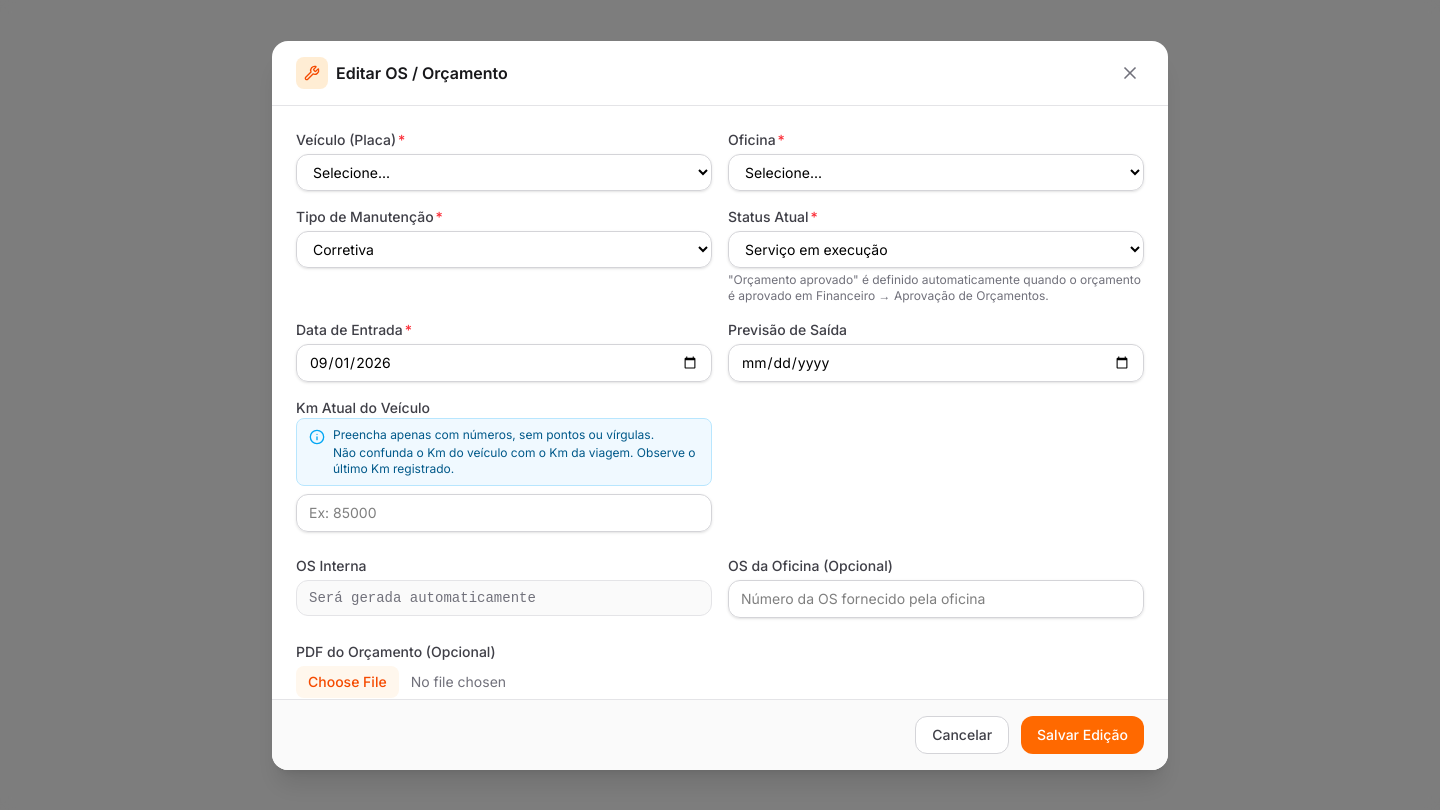
it: MaintenanceForm — trava de orçamento › 4. mostra o bloco de exceção ao escolher um status da faixa operacional
This screenshot has width=1440, height=810.
Select "Serviço em execução" in the dropdown with id "status" at (936, 249), box [728, 230, 1144, 268]
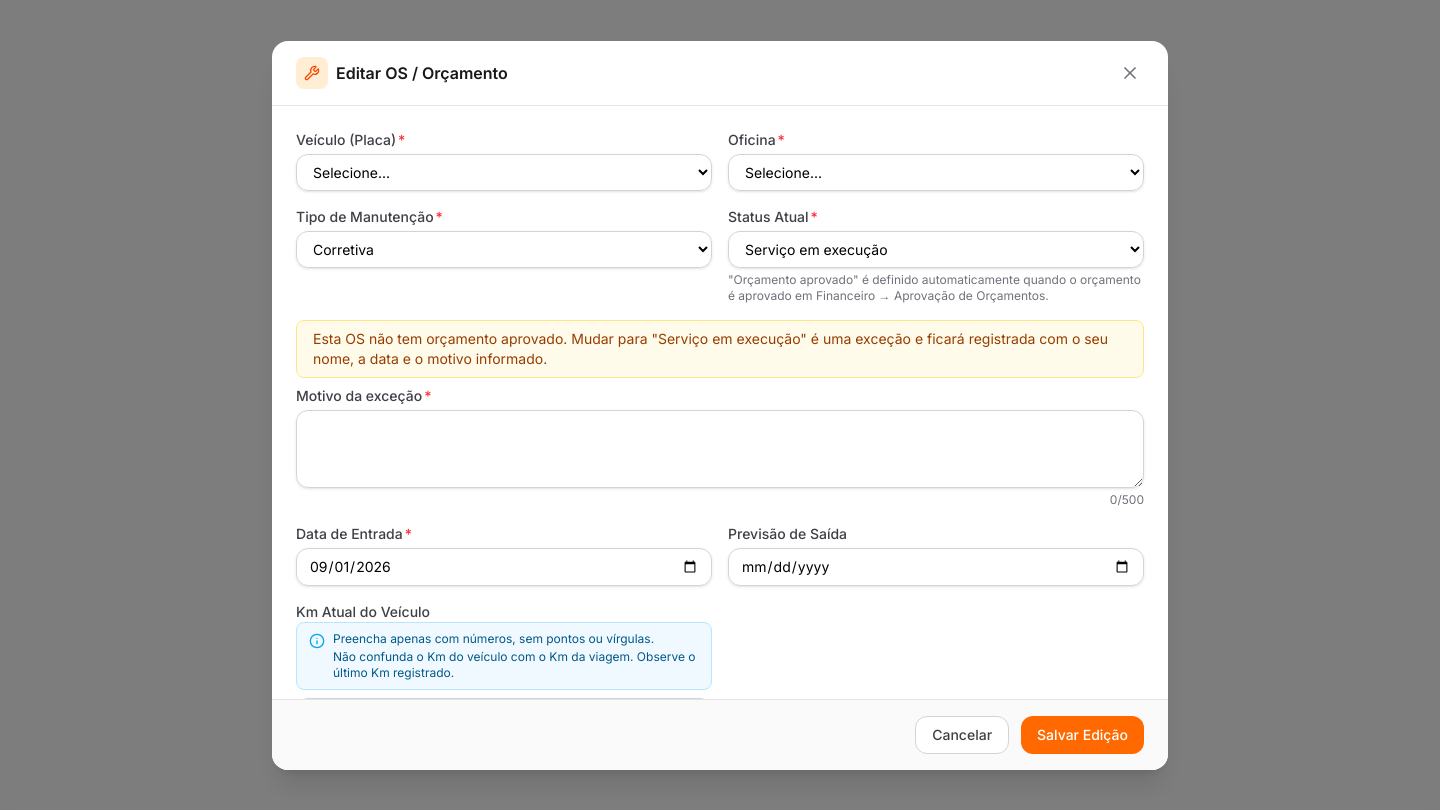
Expected: the element with test id "budget-override-block" is shown, [296, 320, 1144, 508]
Expected: the element with test id "budget-override-block" shows "Esta OS não tem orçamento aprovado. Mudar para \"Serviço em execução\" é uma exceção e ficará registrada com o seu nome, a data e o motivo informado.", [313, 330, 1108, 366]
